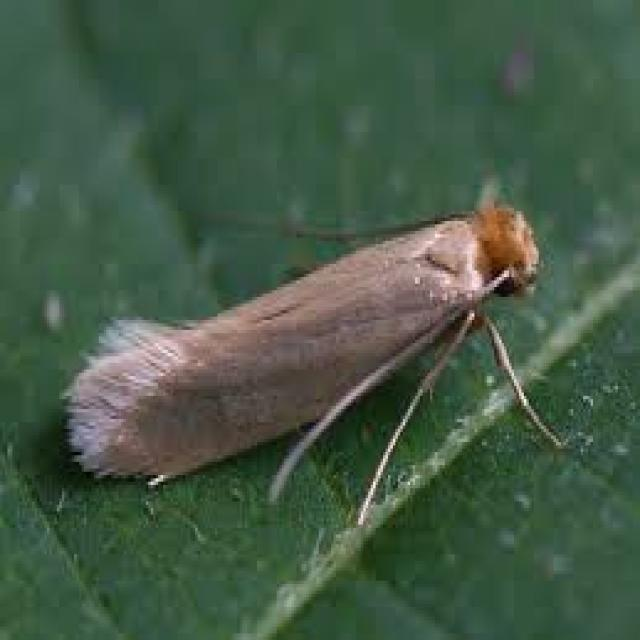yellow-stem-borer: (55, 129, 575, 533)
